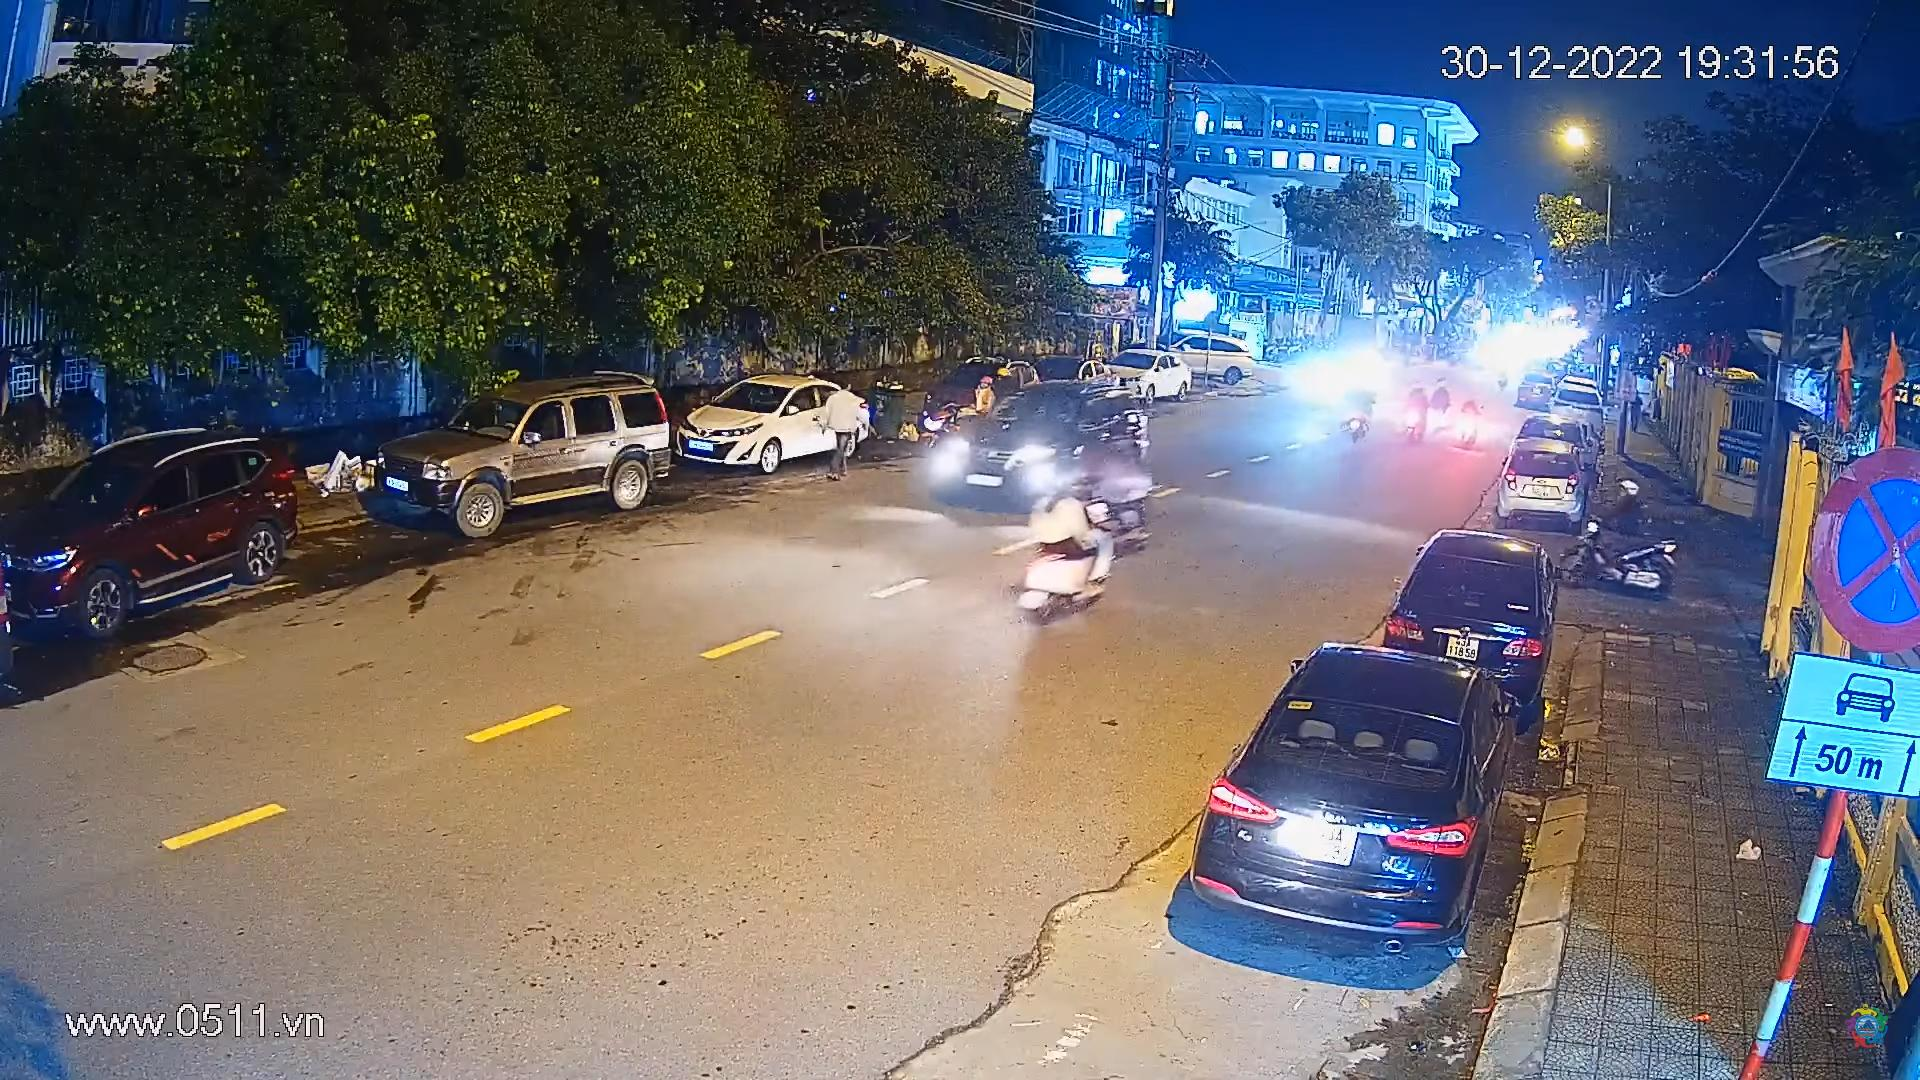car: (1201, 633, 1486, 940), (0, 406, 309, 637), (355, 361, 680, 549), (1400, 518, 1561, 700), (938, 390, 1160, 510), (671, 369, 878, 476), (919, 353, 1035, 444), (1495, 442, 1586, 541), (1077, 342, 1196, 405), (1143, 327, 1266, 388), (1516, 407, 1605, 471), (1549, 378, 1609, 426), (1515, 365, 1555, 413)
motorcycle: (1013, 473, 1126, 637), (1551, 472, 1685, 599), (1393, 372, 1436, 446), (1453, 390, 1494, 460), (1345, 377, 1381, 447)
